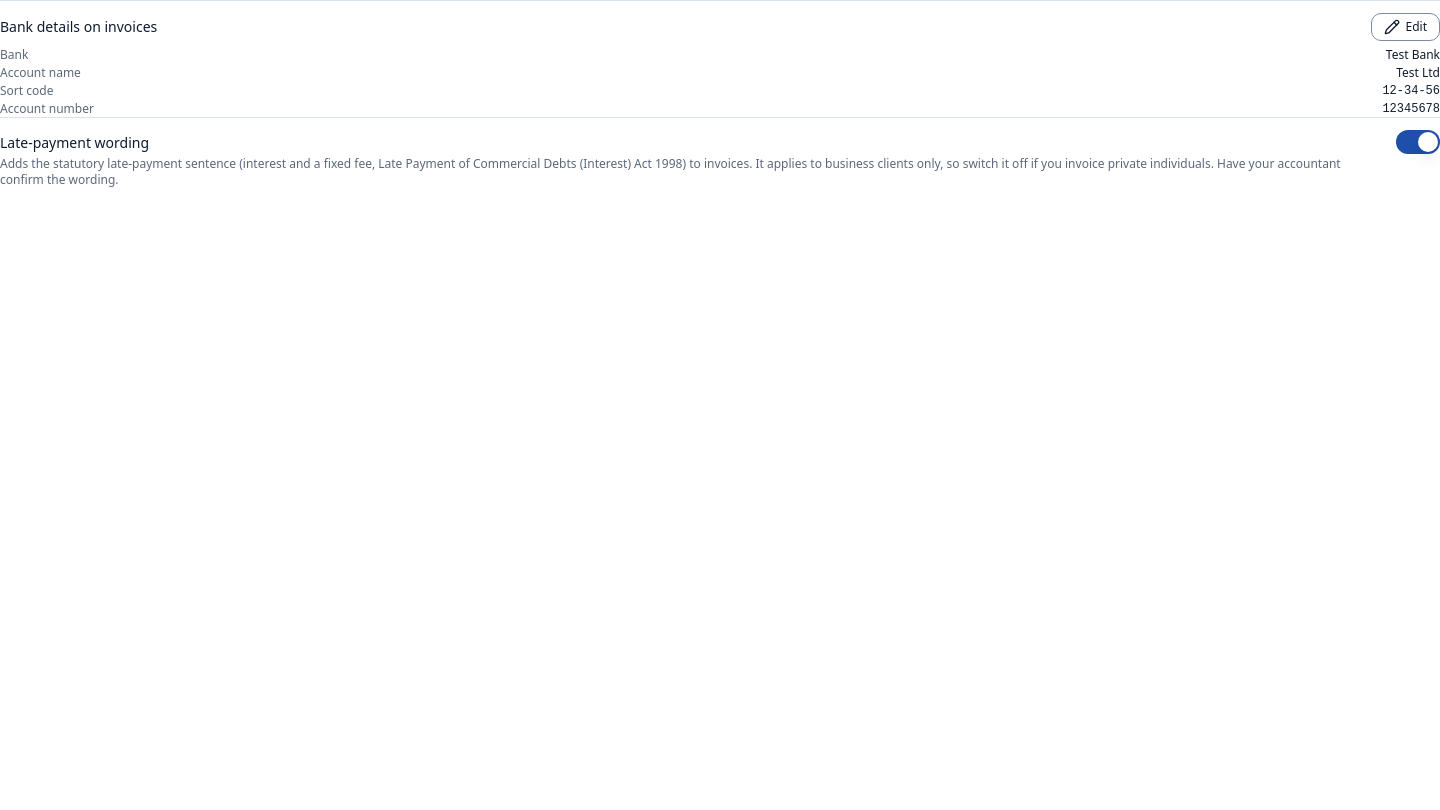
OrgPaymentSettings › starts the editor from the saved details, and clearing them is allowed
Later steps or results of the test are not shown.
Click the button "Edit": (1405, 27) top-left (1370, 13), bottom-right (1439, 41)
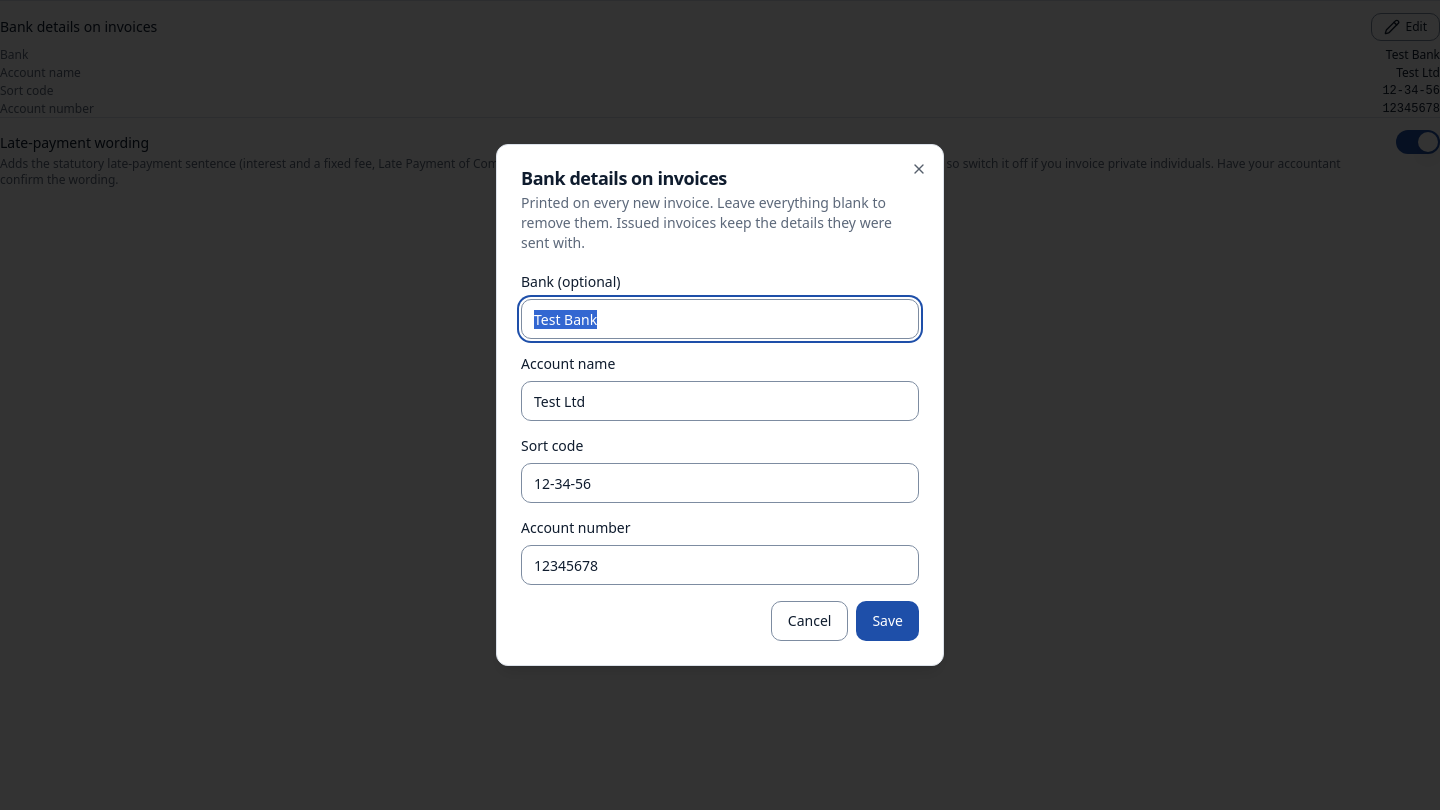
Check: the field labelled "Sort code" holds "12-34-56", box top-left (521, 463), bottom-right (919, 503)
